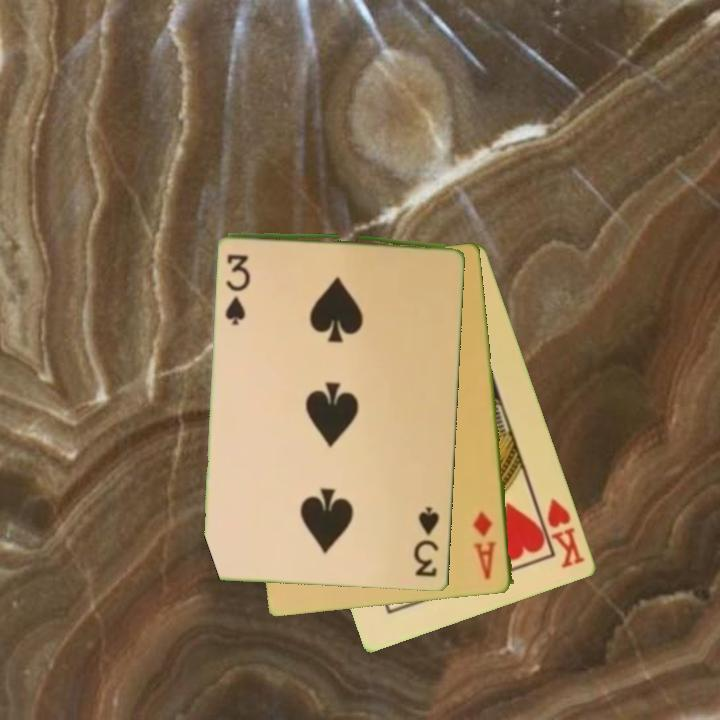3s: (411, 504, 443, 580), (222, 251, 254, 324)
Ad: (470, 507, 500, 584)
Kh: (533, 495, 588, 572)
